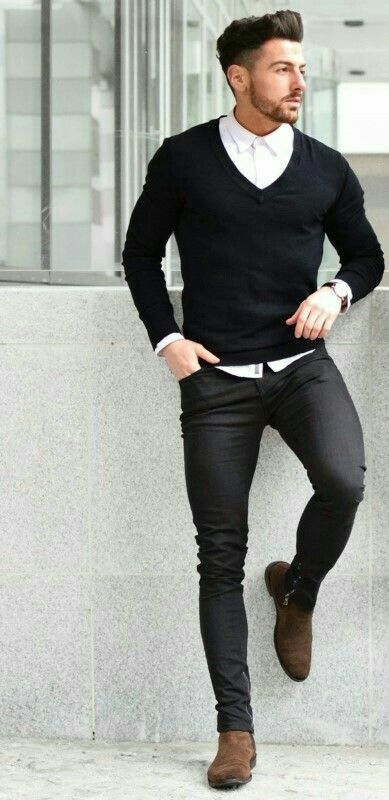NOTSAFE: (175, 6, 339, 397)
